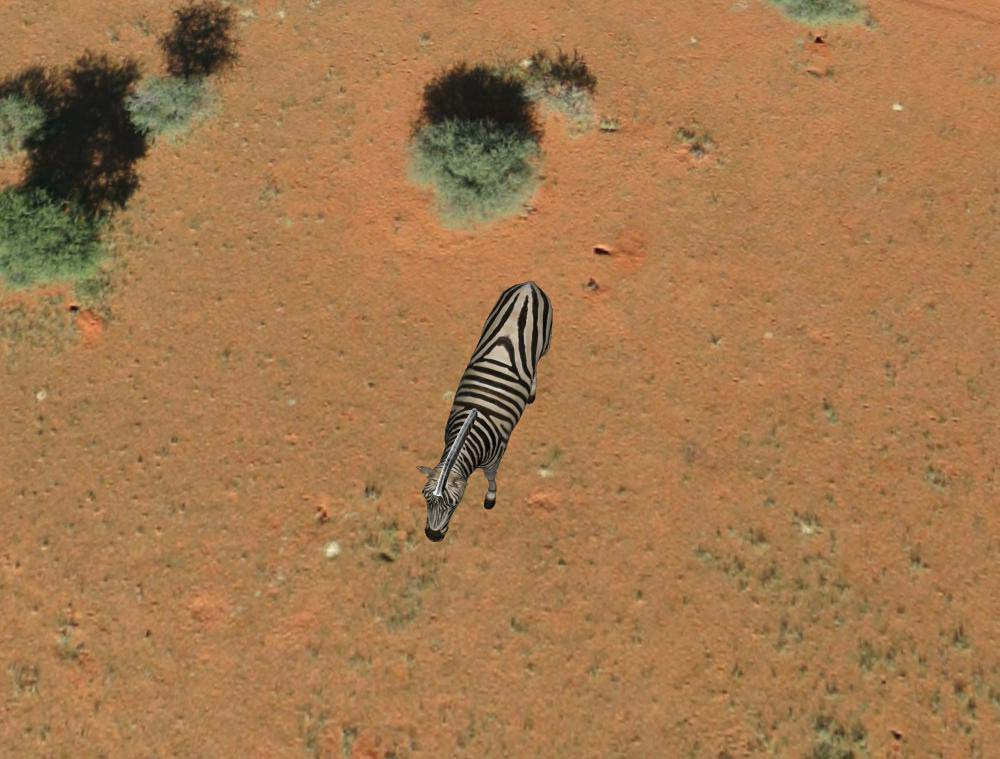zebra: (420, 281, 559, 546)
